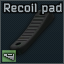AR-15 DoubleStar ACE 0.5 inch recoil pad: (0, 0, 64, 64)
